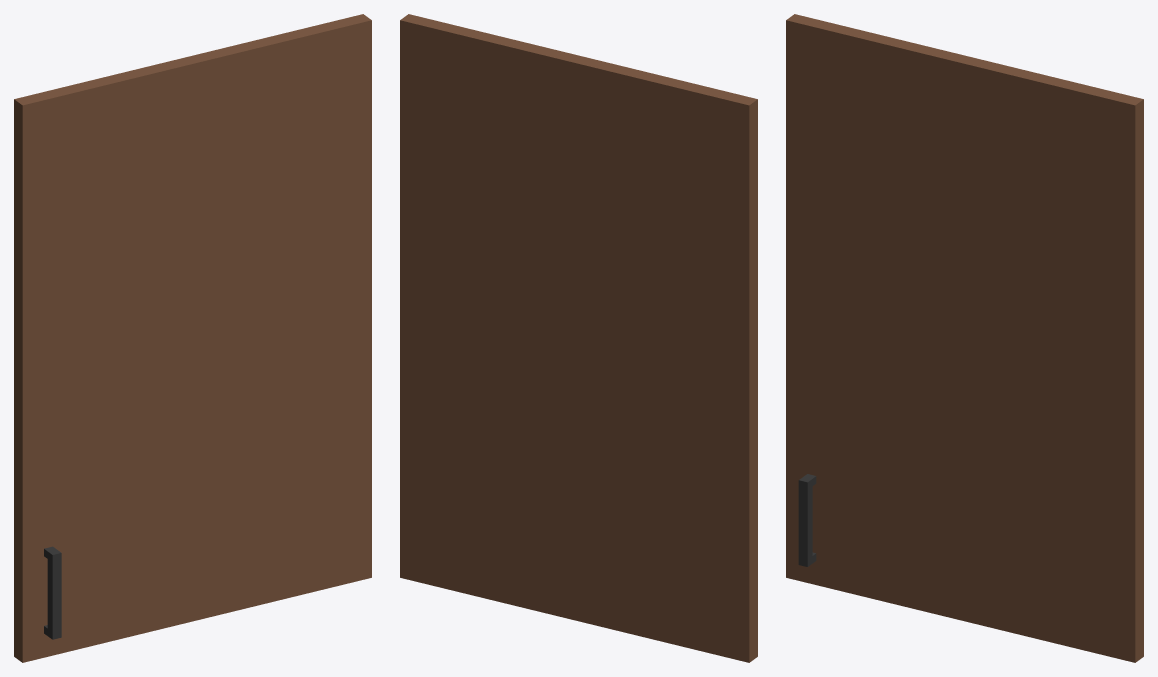
The model's file is Door1_C2_11.fbx.
3 renders of one model, left to right at view 1: azimuth 30°, elevation 25°; view 2: azimuth 150°, elevation 25°; view 3: azimuth 330°, elevation 25°, orthographic.
Parts seen in each view (by area): view 1: Door1_C2_11; view 2: Door1_C2_11; view 3: Door1_C2_11.
Boxes of the visible parts, x1,y1,x2,y2 form: Door1_C2_11: (14, 14, 371, 662); Door1_C2_11: (400, 14, 757, 662); Door1_C2_11: (786, 14, 1143, 662).
Bounding box in the file's own units: 59 × 90 × 5.03.
